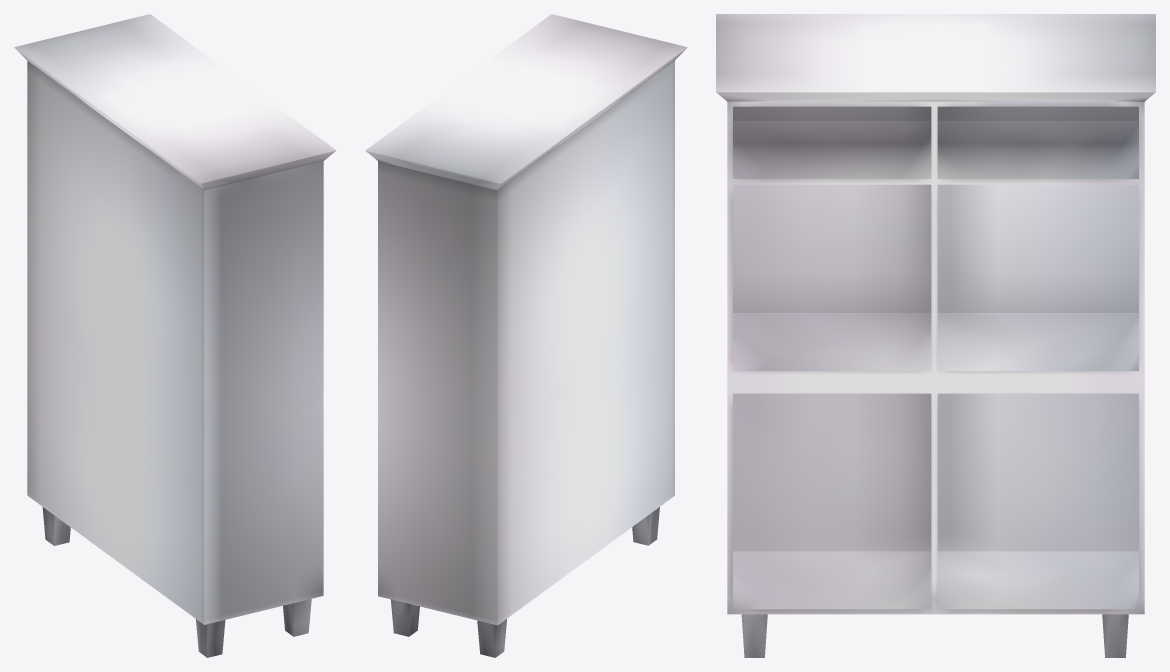
The model's file is chestOfDrawers_base.glb.
The picture shows the model from 3 angles, left to right: view 1: azimuth 30°, elevation 25°; view 2: azimuth 150°, elevation 25°; view 3: azimuth 270°, elevation 25°; orthographic projection. The views are drawn at different scales.
Parts seen in each view (by area): view 1: RC_Furn_Dresser; view 2: RC_Furn_Dresser; view 3: RC_Furn_Dresser.
Part boxes in pixels (x1,y1,x2,y2): RC_Furn_Dresser: (14,14,336,657); RC_Furn_Dresser: (365,14,687,657); RC_Furn_Dresser: (716,14,1155,657).
Size of the model in its own units: 0.93 by 3.18 by 2.21.
1 material, 1 textured.
